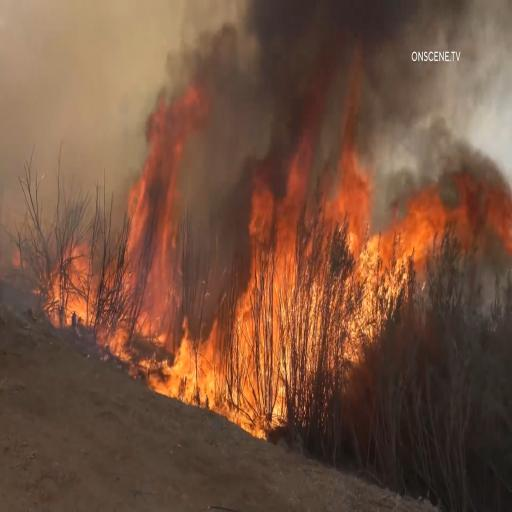fire: (203, 148, 311, 426), (116, 92, 210, 374), (323, 195, 437, 274)
smoke: (403, 87, 505, 180), (228, 0, 309, 98), (217, 14, 248, 196), (375, 11, 403, 202), (51, 243, 96, 334)
